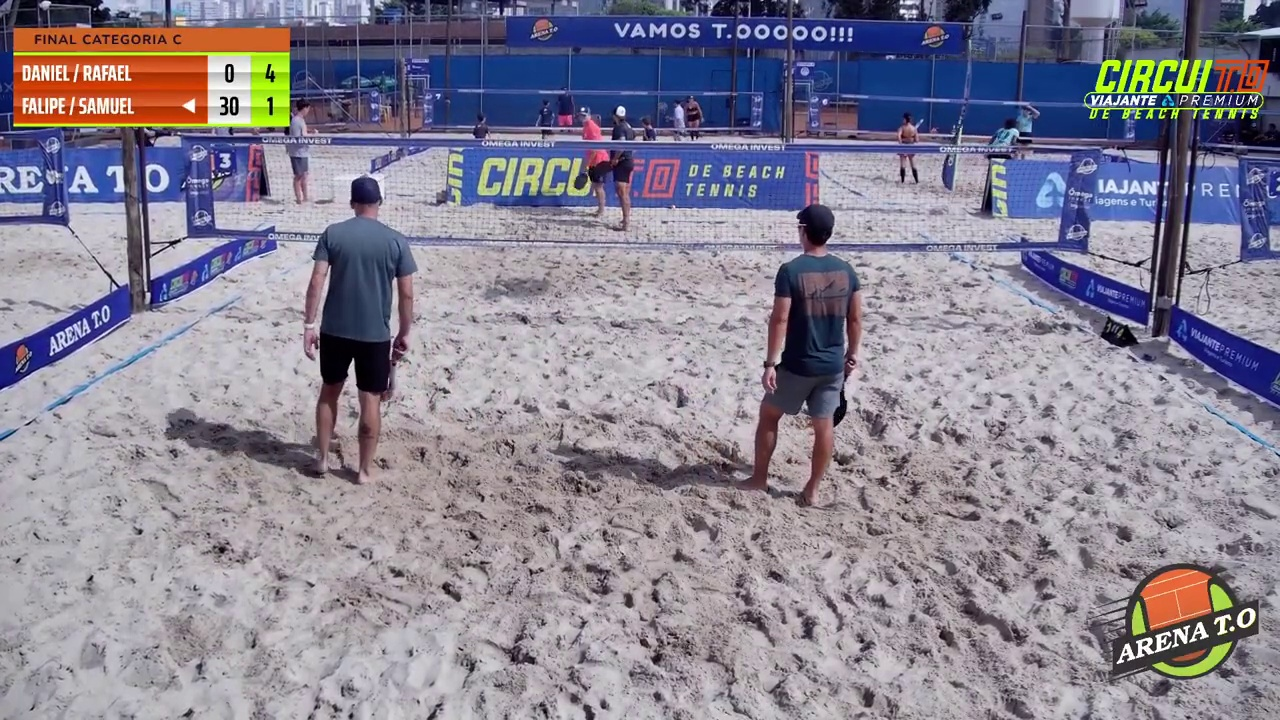court_line: (641, 0, 799, 431)
